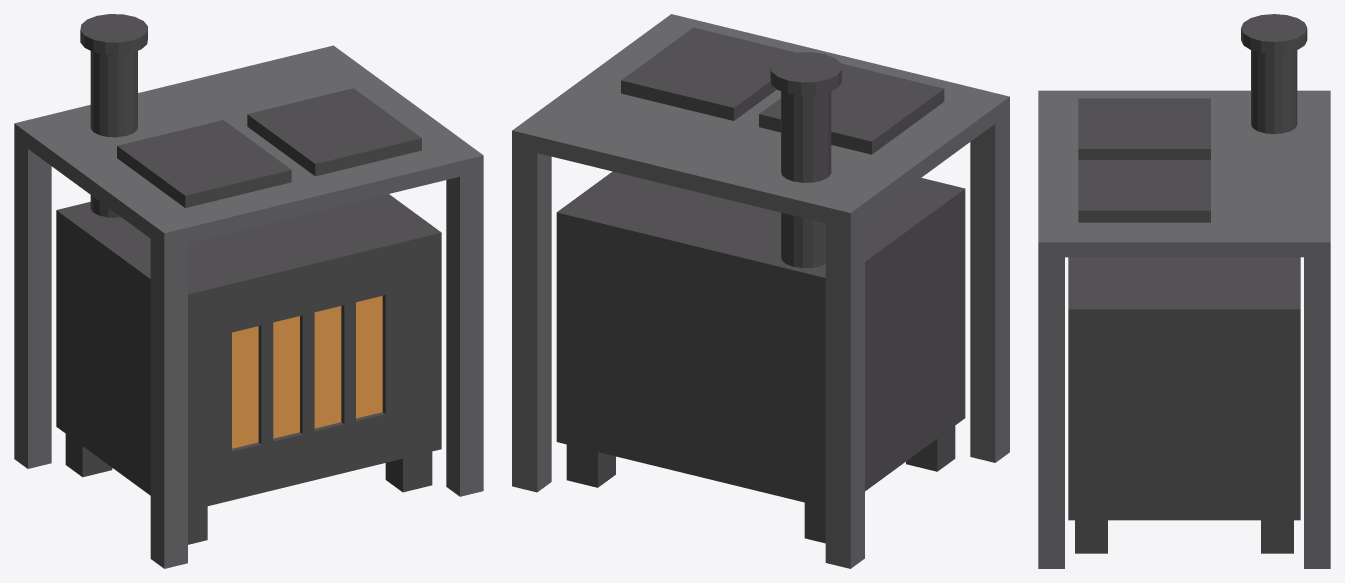
The model's file is MillOven.fbx.
3 renders of one model, left to right at view 1: azimuth 30°, elevation 25°; view 2: azimuth 150°, elevation 25°; view 3: azimuth 270°, elevation 25°, orthographic. The views are drawn at different scales.
Parts seen in each view (by area): view 1: mill_ov_box, mill_ov_table, mill_ov_trays, mill_ov_glass, mill_ov_flue; view 2: mill_ov_box, mill_ov_table, mill_ov_trays, mill_ov_flue; view 3: mill_ov_box, mill_ov_table, mill_ov_trays, mill_ov_flue.
Part boxes in pixels (x1,y1,x2,y2): mill_ov_box: [56, 194, 441, 510]; mill_ov_table: [14, 45, 483, 568]; mill_ov_trays: [117, 88, 421, 207]; mill_ov_glass: [232, 296, 382, 448]; mill_ov_flue: [65, 14, 432, 544]; mill_ov_box: [556, 171, 965, 507]; mill_ov_table: [512, 14, 1009, 568]; mill_ov_trays: [621, 27, 944, 154]; mill_ov_flue: [566, 52, 955, 543]; mill_ov_box: [1068, 257, 1300, 520]; mill_ov_table: [1038, 90, 1330, 568]; mill_ov_trays: [1078, 98, 1210, 222]; mill_ov_flue: [1075, 14, 1307, 553].
Bounding box in the file's own units: 1.08 × 1.4 × 0.88.
